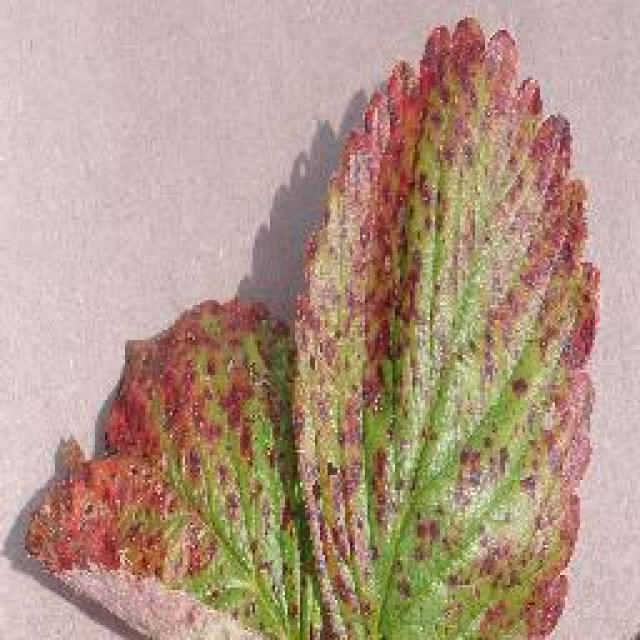Strawberry leaf scorch: (99, 77, 562, 640)
